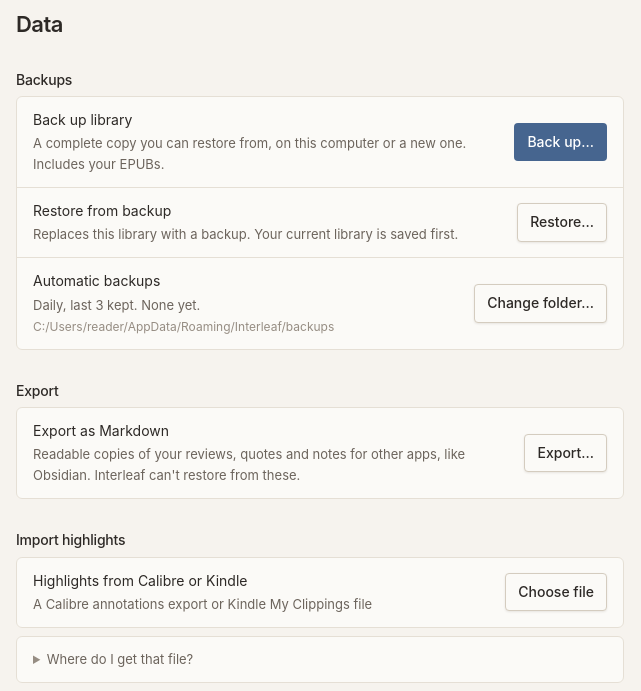
the Data screen › exports Markdown separately from backups
The image size is (641, 691).
Click the button "Export…" at x=566, y=453, box [524,434,607,472]
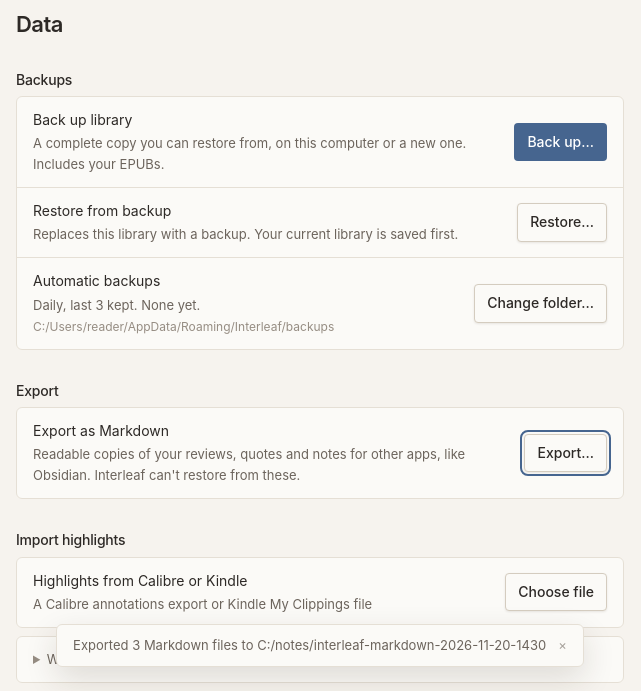
Expected: the text "Exported 3 Markdown files to C:/notes/interleaf-markdown-2026-11-20-1430" is shown, [73,635,546,656]
